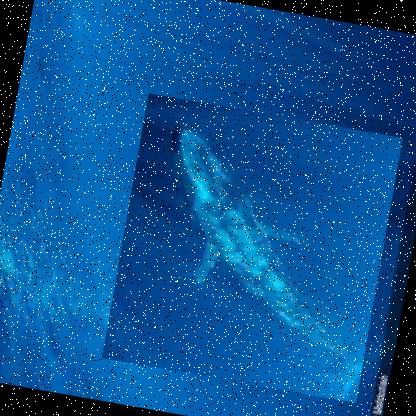blue_whale: (102, 90, 404, 402)
